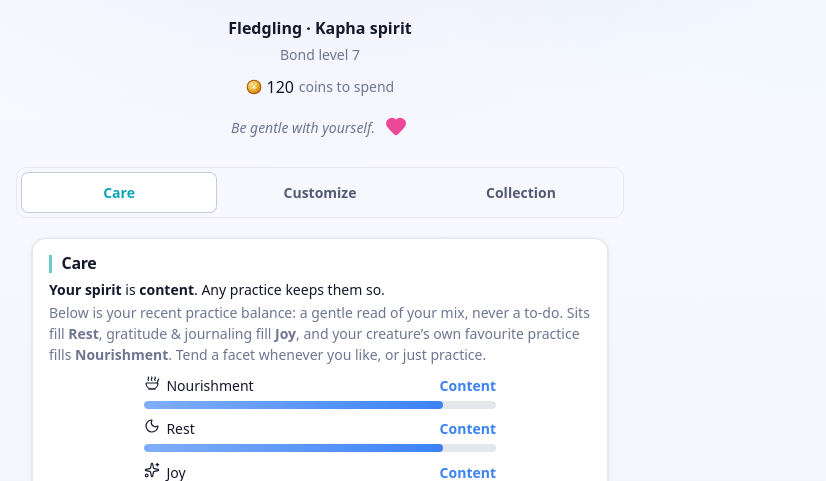
Test: SpiritPage collection gallery › never renders a memorial in the collection — every entry is a radiant graduate (ADR-0031)
(page scrolled)
Step 1. Click the button "Collection" → (521,193), box [423, 172, 619, 214]
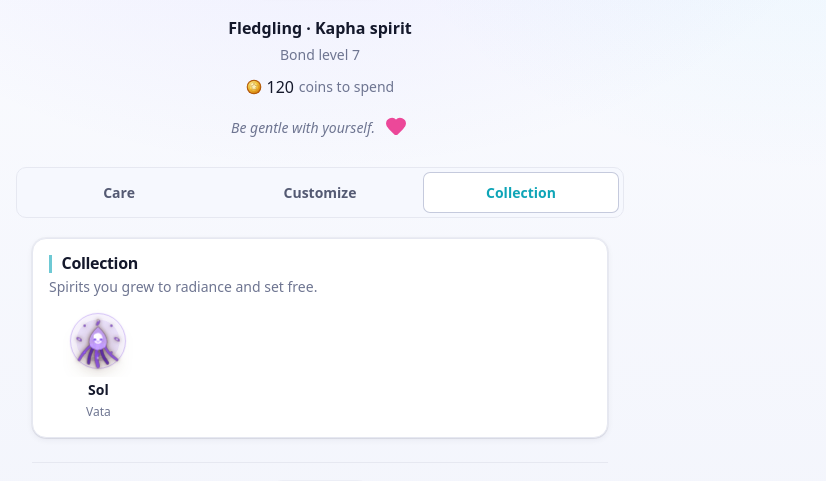
Expected: the text "Sol" is shown, [88, 379, 109, 400]
